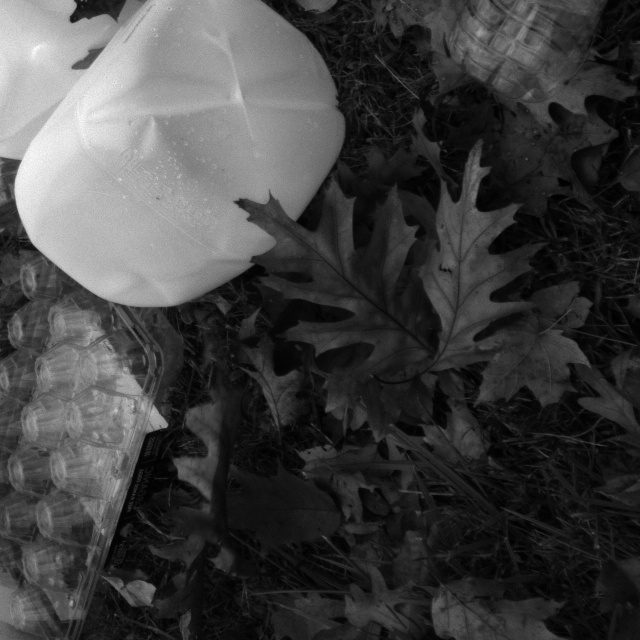bottle: (426, 0, 640, 136)
can: (25, 0, 365, 320), (0, 0, 128, 158), (0, 558, 86, 640)
container: (0, 293, 191, 637)
